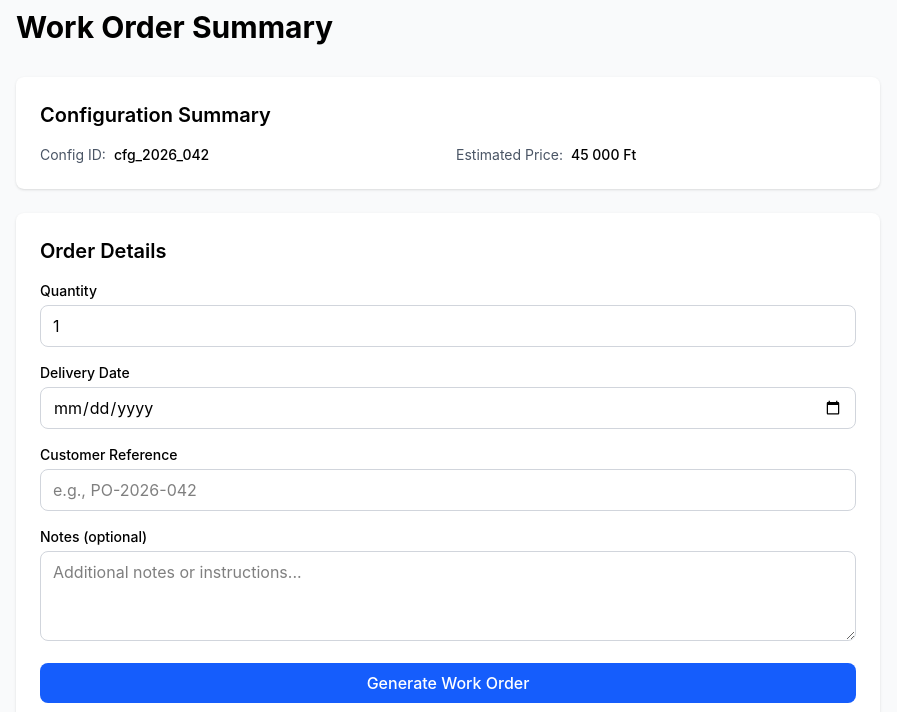
Test: WorkOrderSummary › validates form fields before submission
Check: the heading "Order Details" is shown, box [40, 239, 166, 263]
Note: Try to submit without filling required fields
Click the button "Generate Work Order". click: (448, 683)
box: [40, 663, 856, 703]
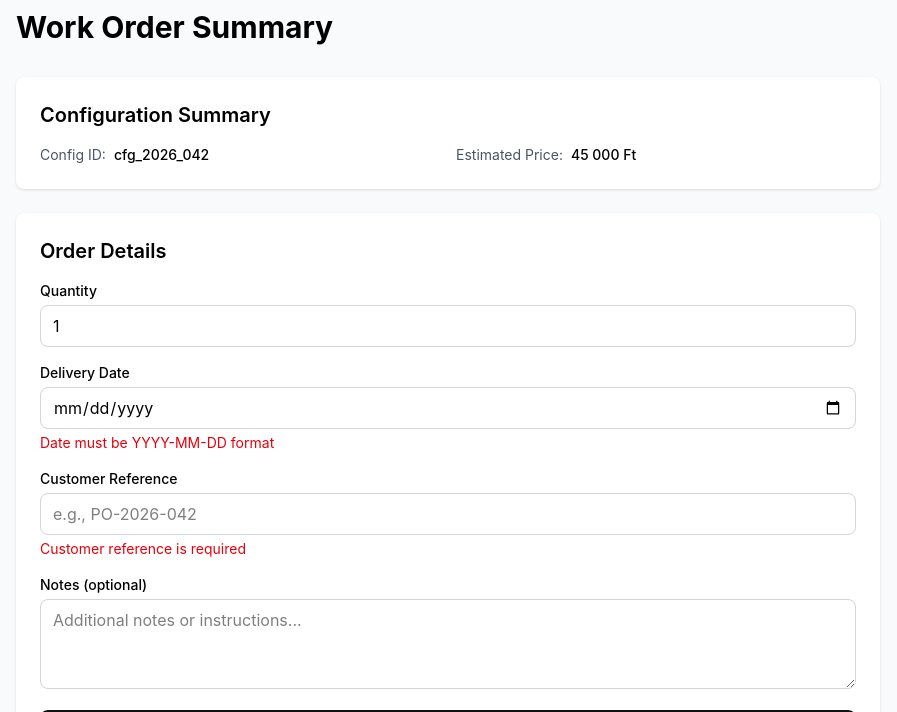
Check: the text "Customer reference is required" is shown, box [40, 540, 246, 557]
